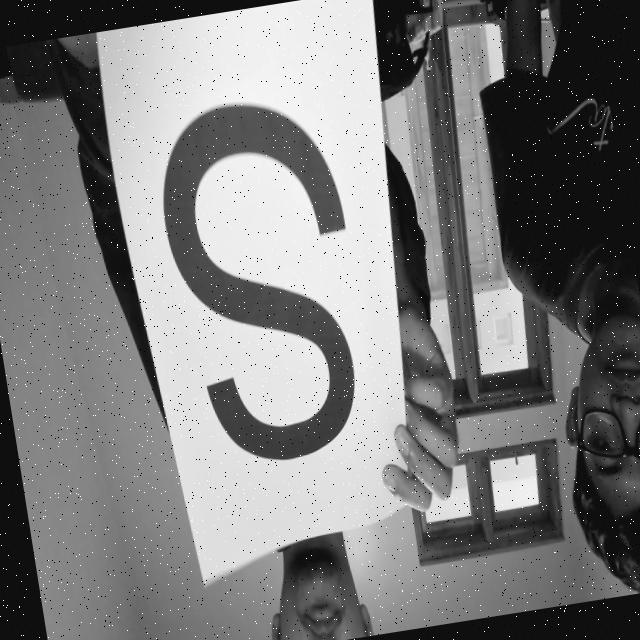s: (120, 36, 403, 496)
